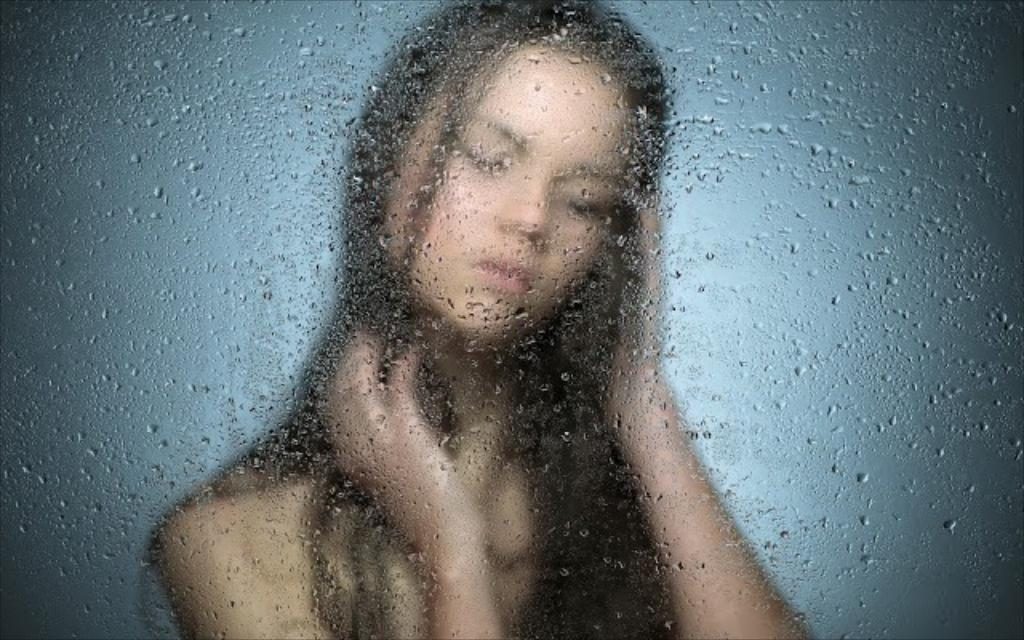Human-face: (389, 56, 634, 339)
